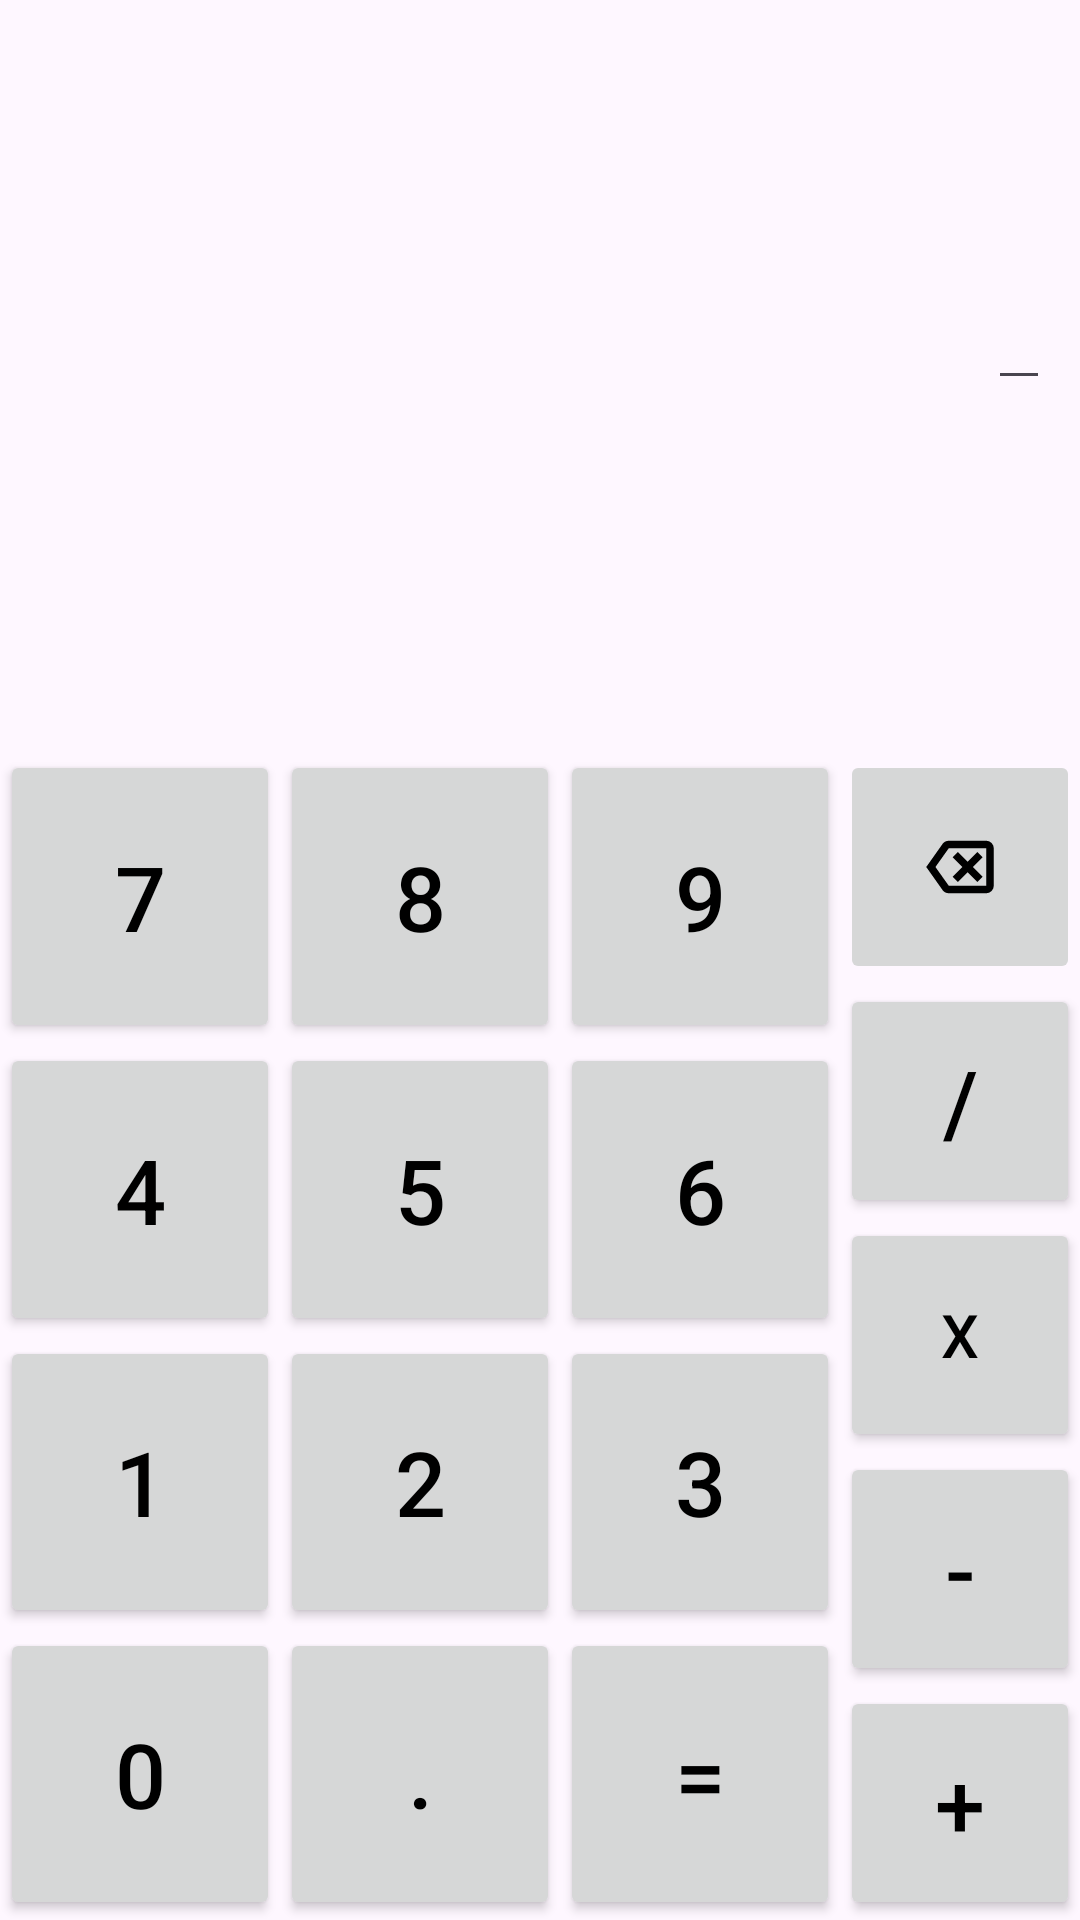

Named icons in this screenshot (1080×1920) and their bounding boxes, (x1=x1, y1=y1, x2=x2, y2=y2):
delete: (x1=852, y1=768, x2=1068, y2=966)
